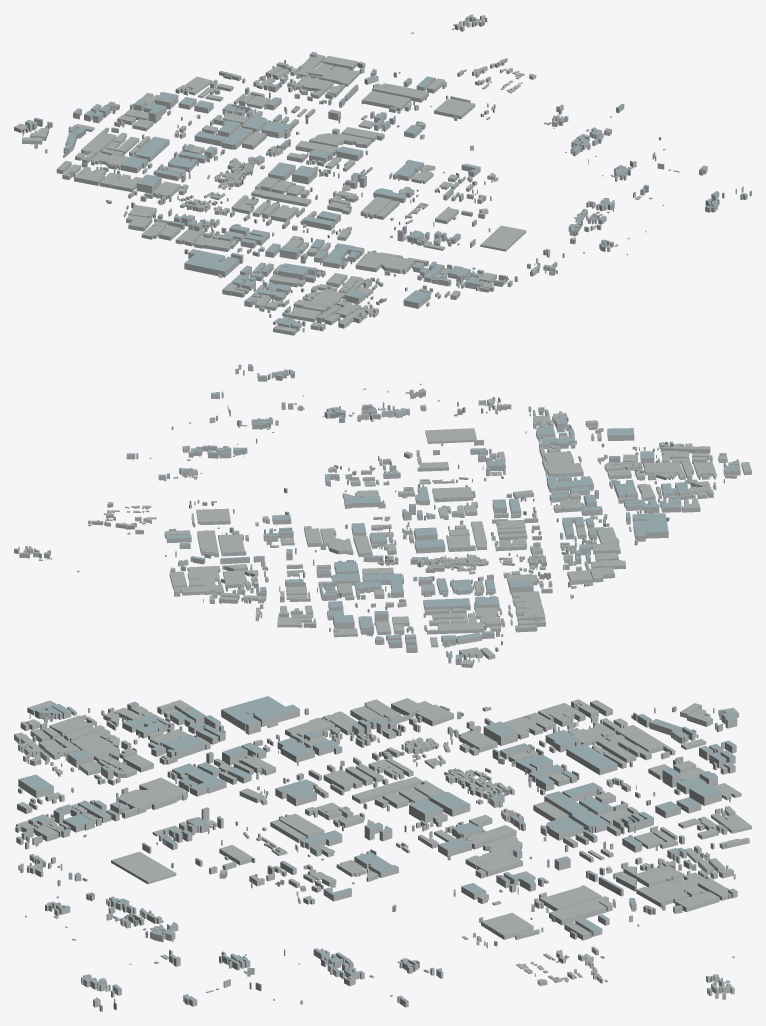
The model's file is far.glb.
3 views of the same model, one above another, from view 1: azimuth 30°, elevation 25°; view 2: azimuth 150°, elevation 25°; view 3: azimuth 270°, elevation 25° (orthographic). The views are drawn at different scales.
Bounding box in the file's own units: 2130 × 40.49 × 2150.
